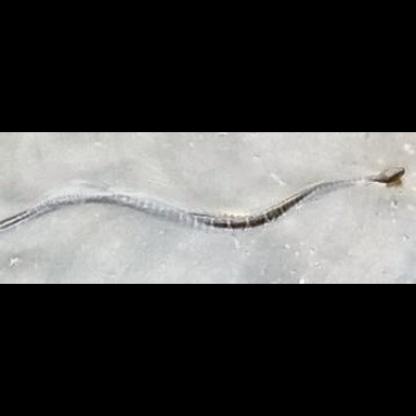Snake: (0, 162, 402, 231)
